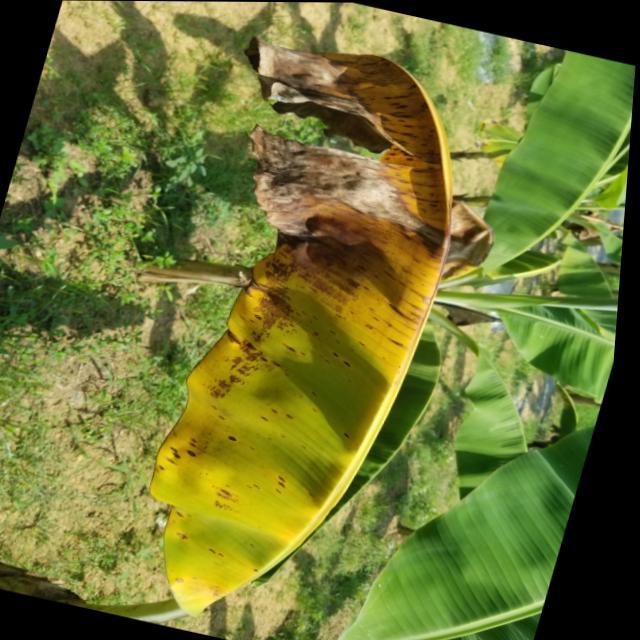Early_rust: (78, 14, 458, 600)
